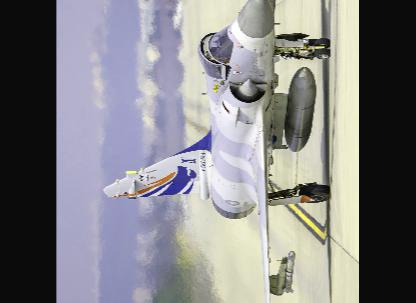Mirage2000: (103, 0, 332, 301)
